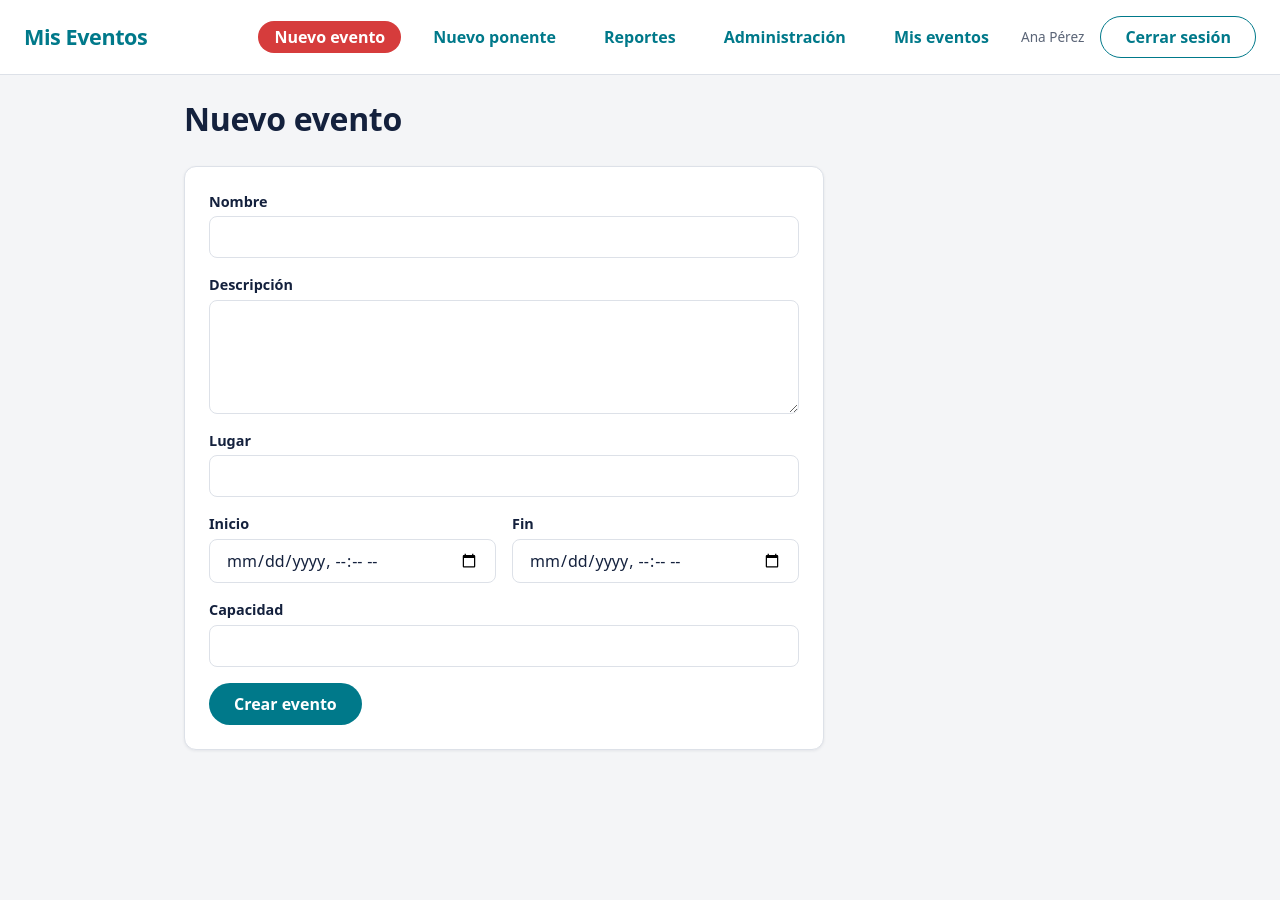
Test: EventFormPage create › shows the backend message inside the form when creating fails
The image size is (1280, 900).
Expected: the heading "Nuevo evento" is shown, [184,97,402,140]
Type "Taller" into the field labelled "Nombre" at (504, 237), box [209,216,799,258]
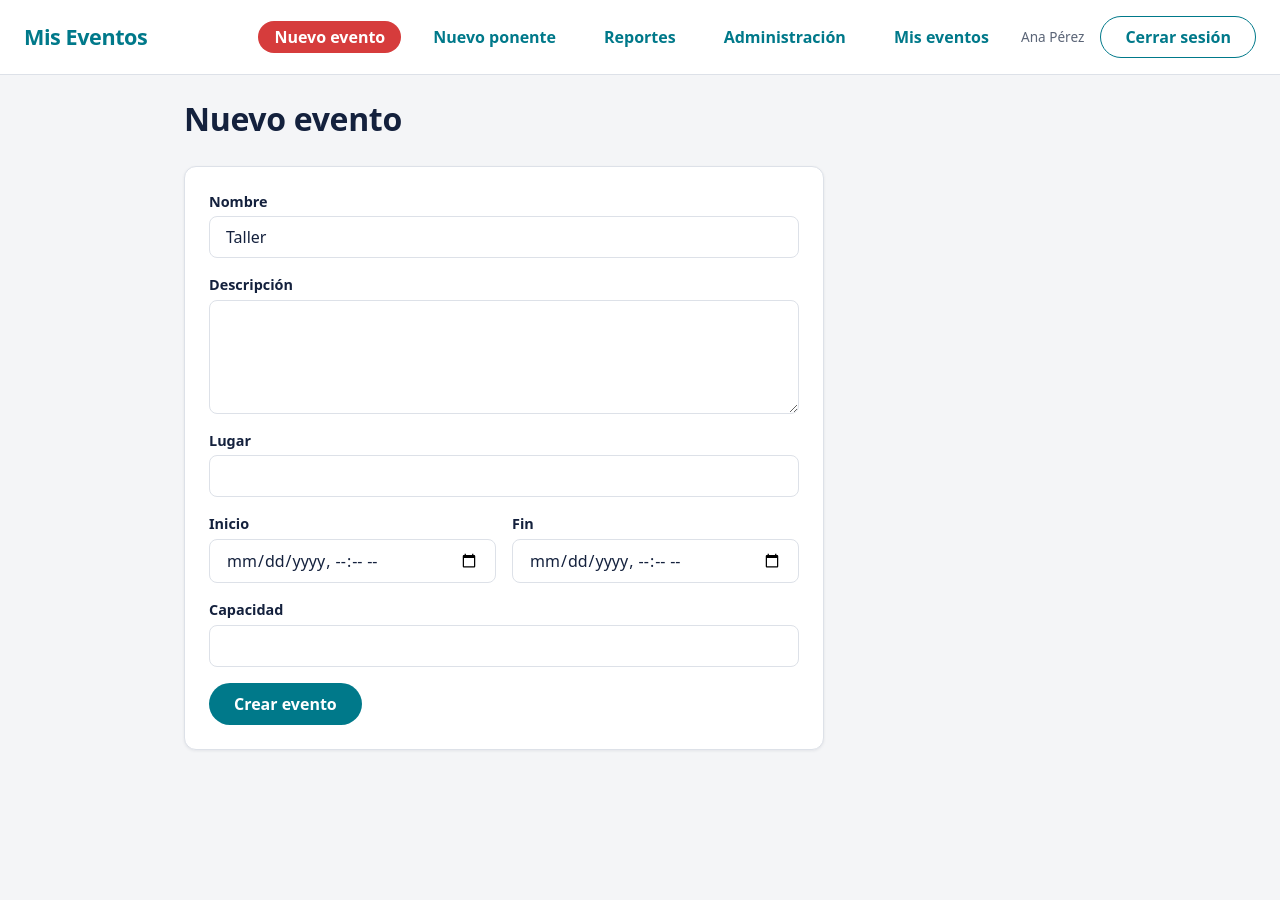
Type "Bogotá" into the field labelled "Lugar" at (504, 476), box [209,455,799,497]
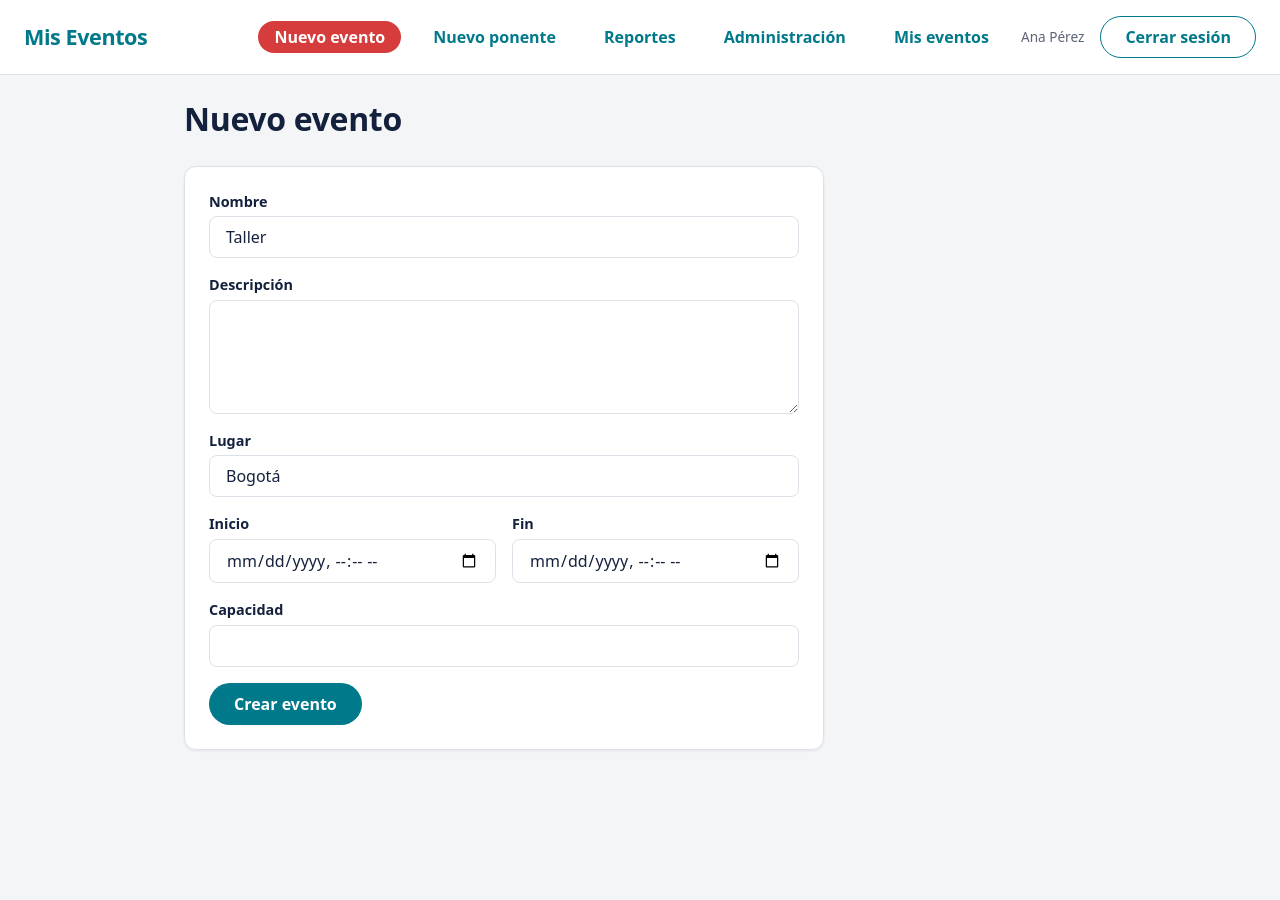
Type "2999-01-01T10:00" into the field labelled "Inicio" at (352, 561), box [209,539,496,583]
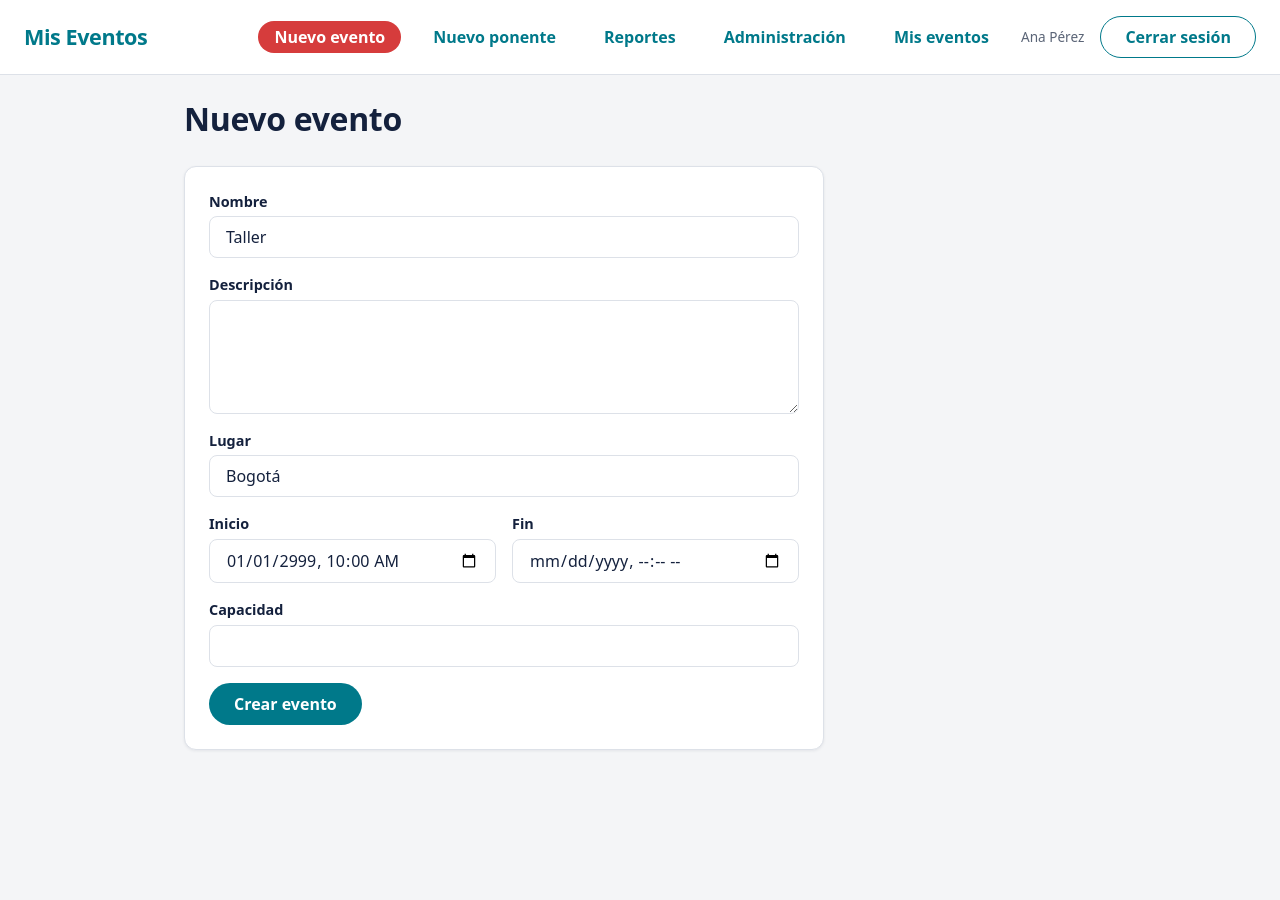
Type "2999-01-01T12:00" into the field labelled "Fin" at (656, 561), box [512,539,799,583]
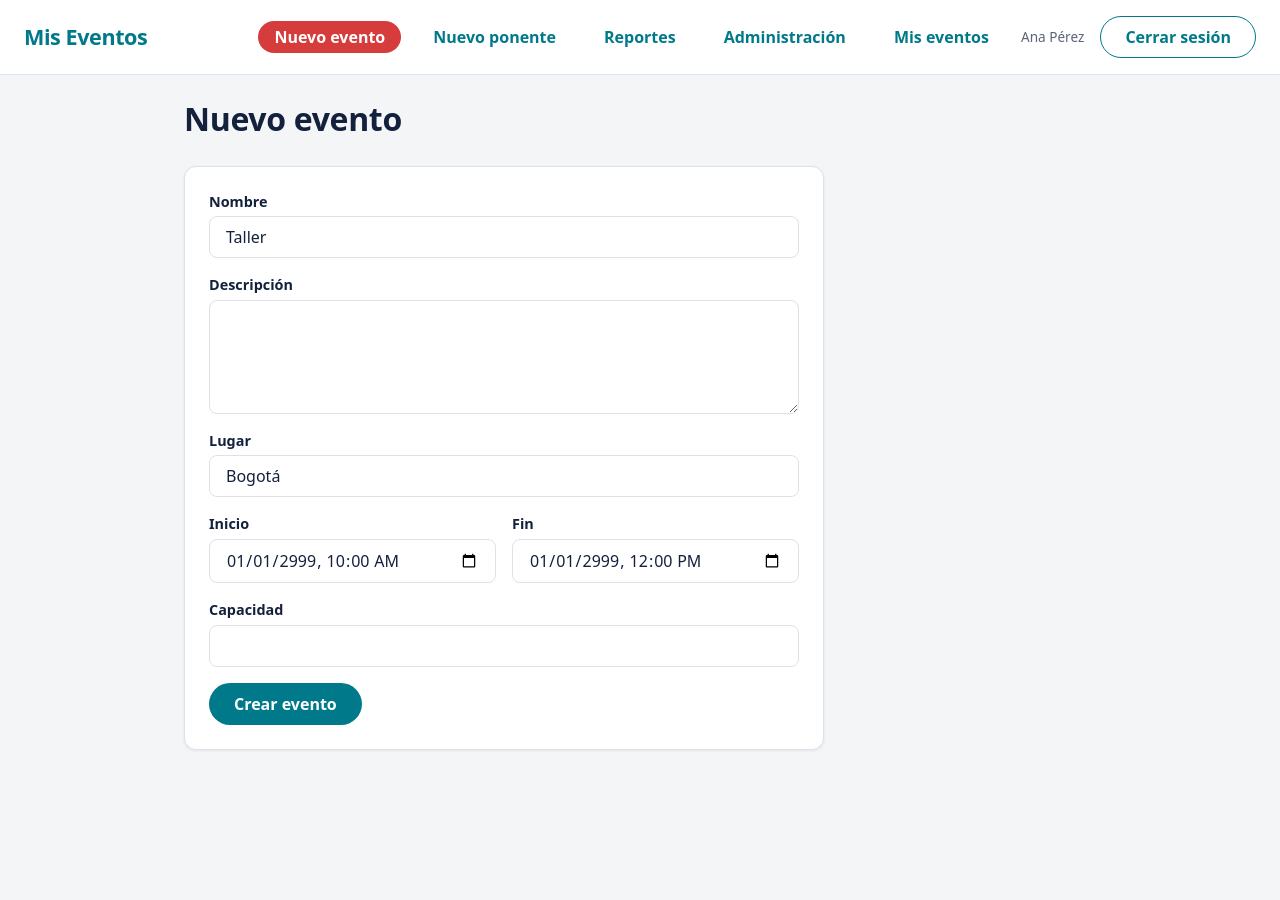
Type "30" into the number field labelled "Capacidad" at (504, 646), box [209,625,799,667]
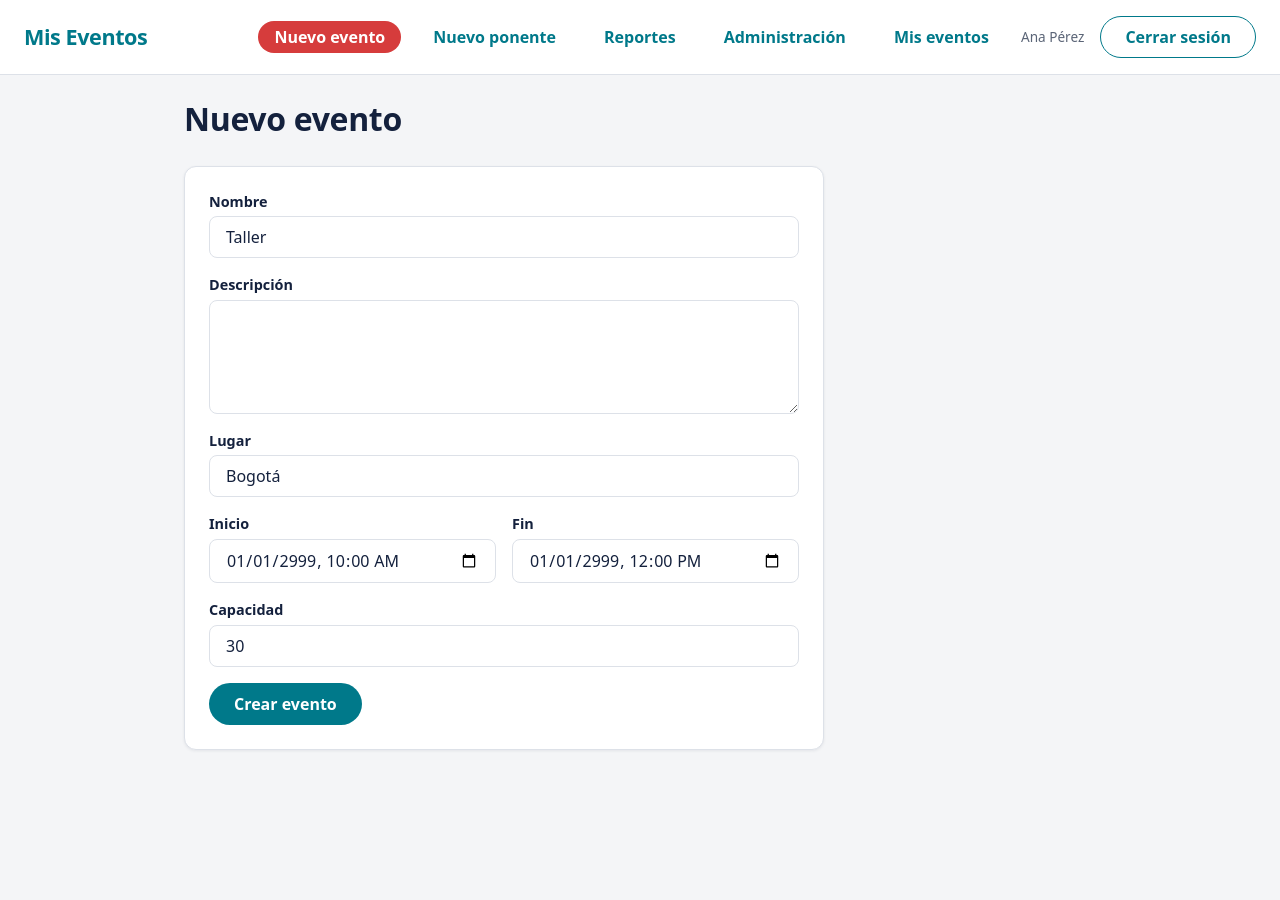
Click the button "Crear evento" at (285, 704), box [209,683,362,725]
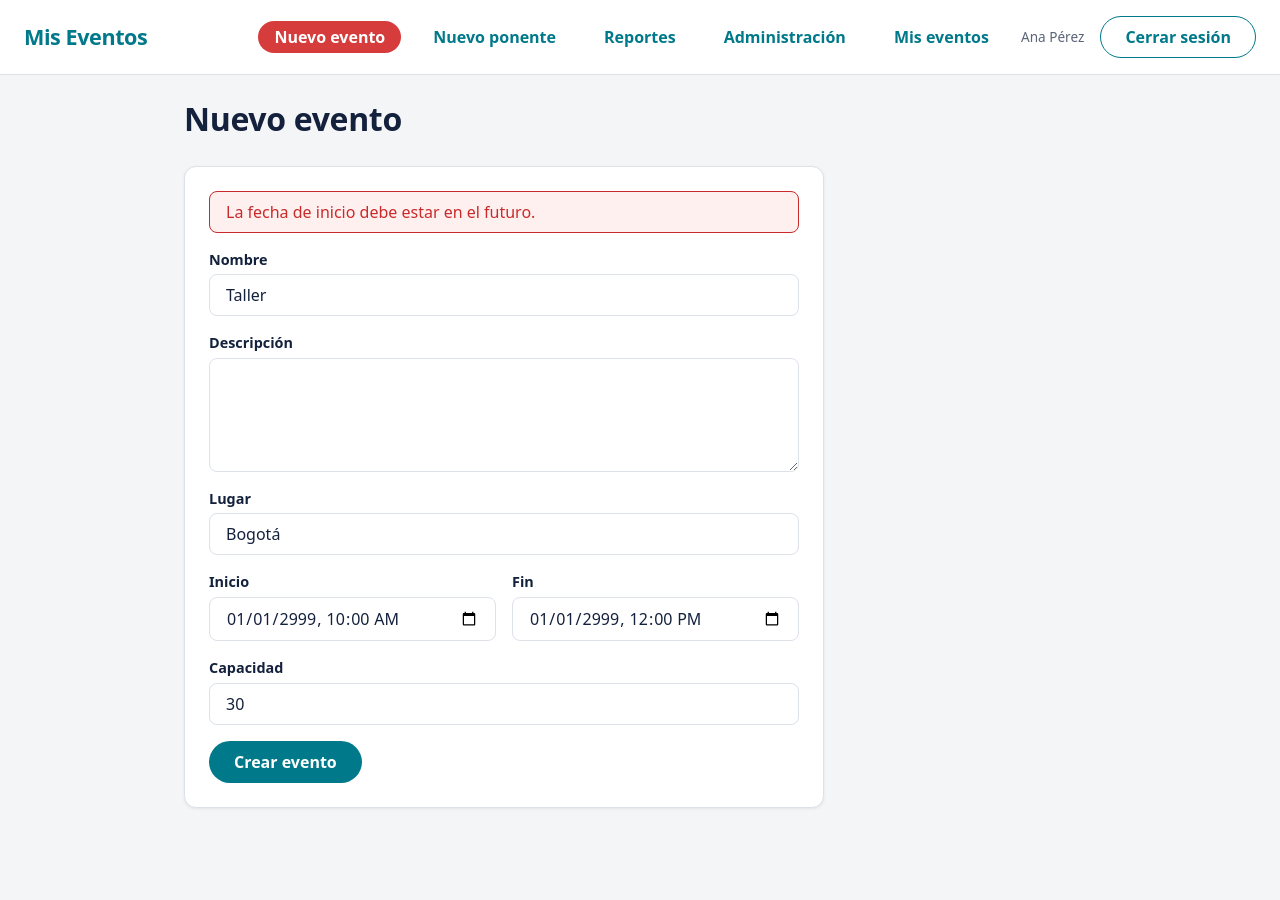
Expected: the message reads "La fecha de inicio debe estar en el futuro.", [226,200,535,222]
